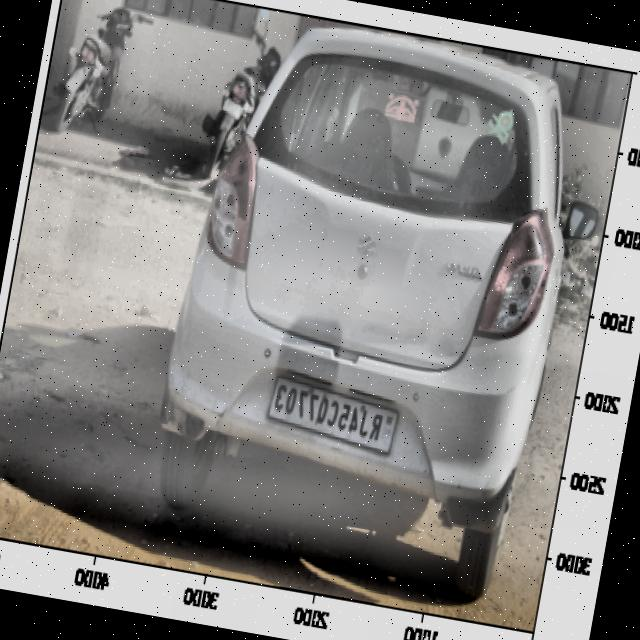license_plate: (266, 376, 392, 446)
